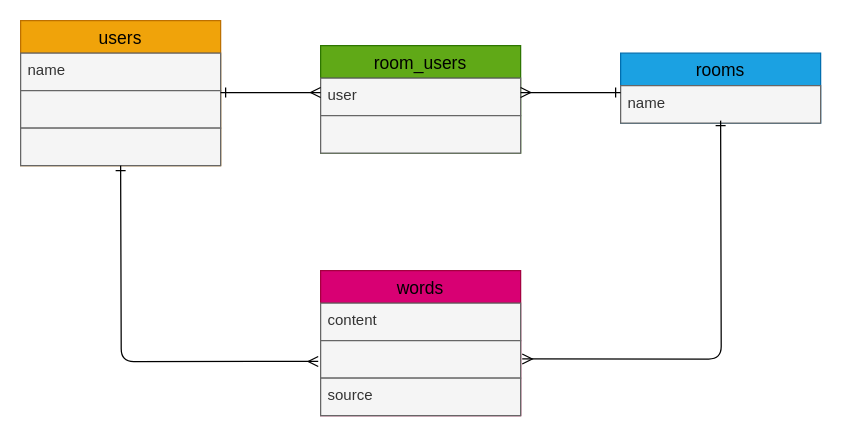
The diagram is 841 pixels wide and 436 high, and some of its shapes have lost their labels. Here are the shapes that lost their labels. From the top down, the box of each, then its label:
(19, 89, 221, 128): email
(19, 127, 221, 166): encrypted_password
(319, 114, 521, 153): room
(319, 339, 521, 378): person
